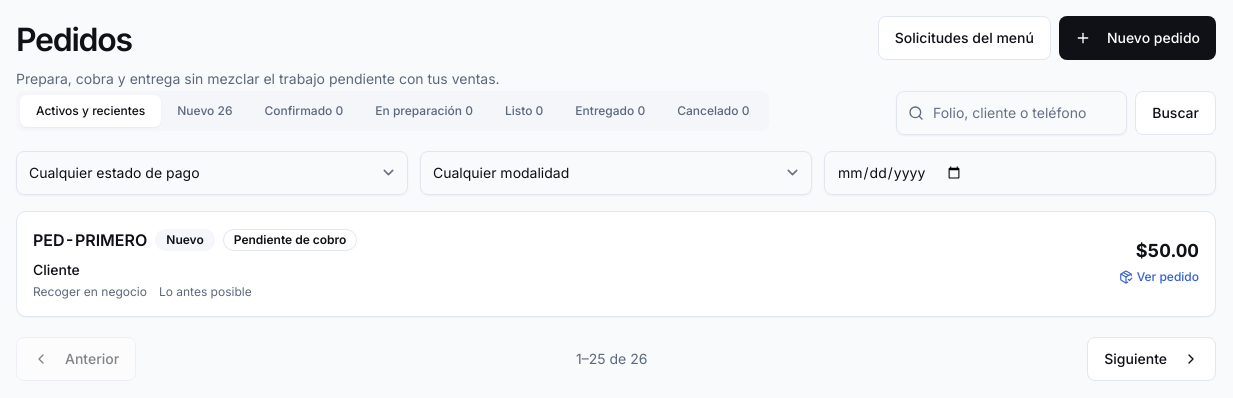
it: CustomerOrderListView › ignores an older page response after a newer search resolves, including cache writes
Expected: the text "PED-PRIMERO" is shown, [33, 228, 147, 252]
Click the button "Siguiente" at (1152, 359), box [1087, 337, 1216, 381]
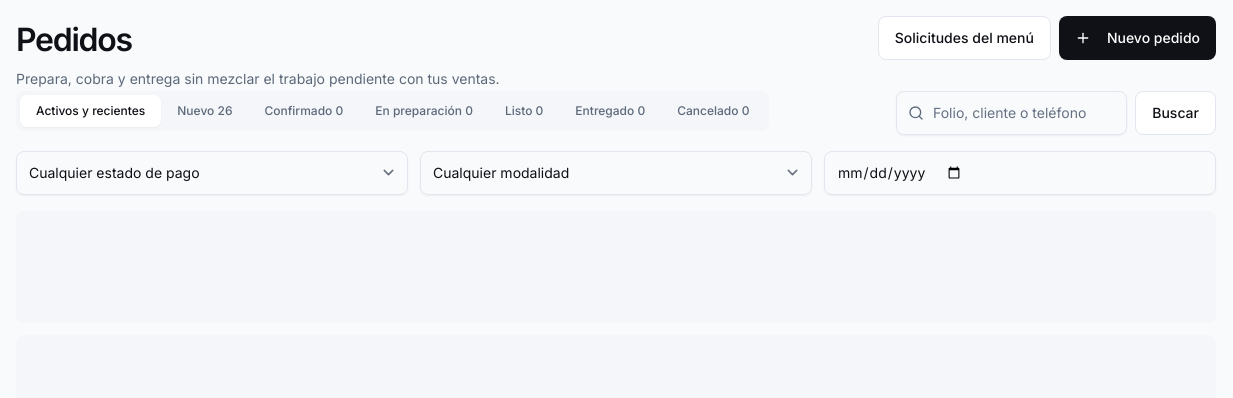
Type "PED-ACTUAL" into the field with placeholder "Folio, cliente o teléfono" at (1012, 113), box [896, 91, 1127, 135]
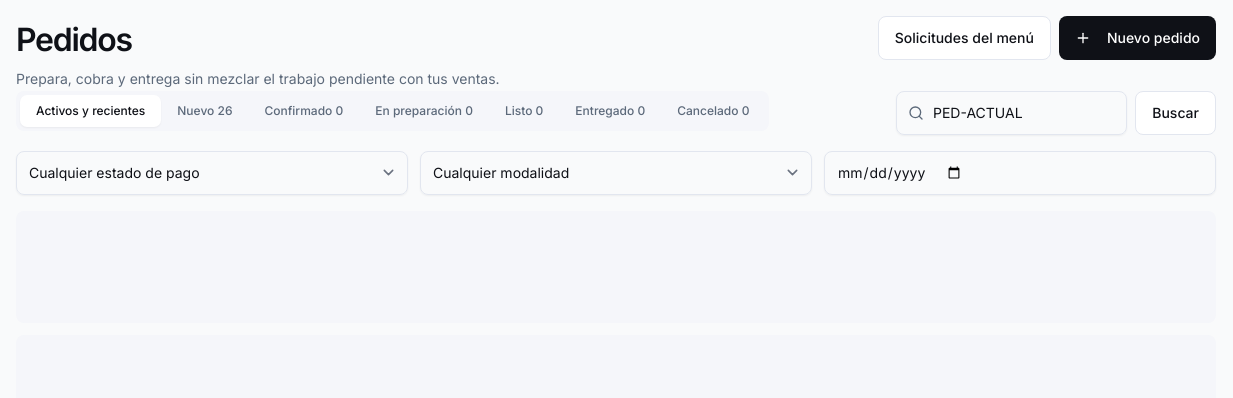
Click the button "Buscar" at (1176, 113), box [1135, 91, 1216, 135]
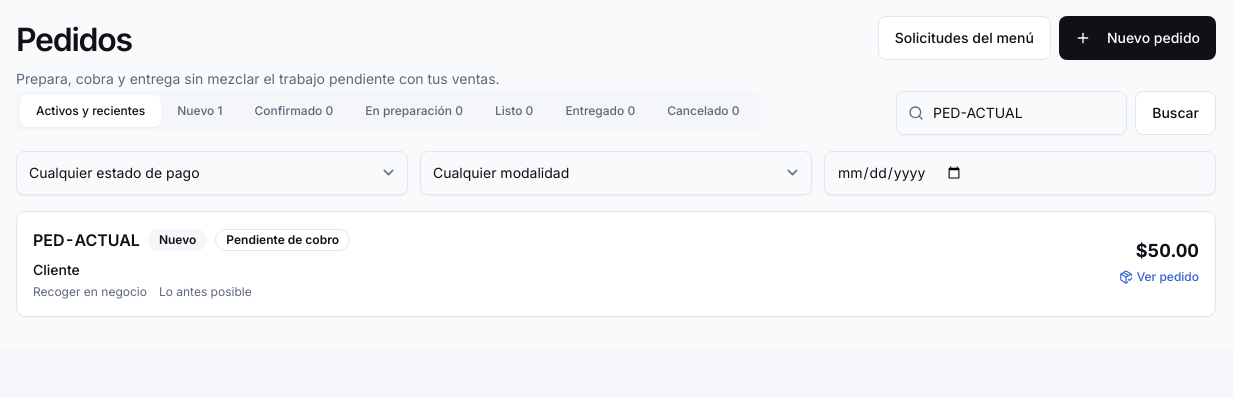
Expected: the text "PED-ACTUAL" is shown, [33, 228, 140, 252]
